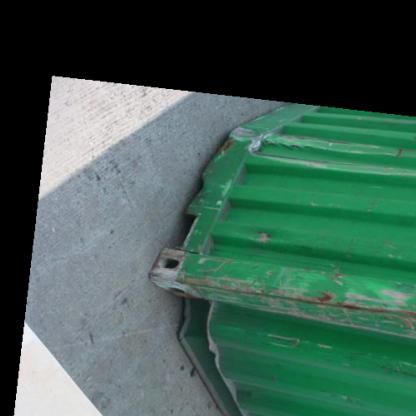Damage: (176, 257, 414, 341), (228, 120, 368, 179), (249, 226, 282, 250)
